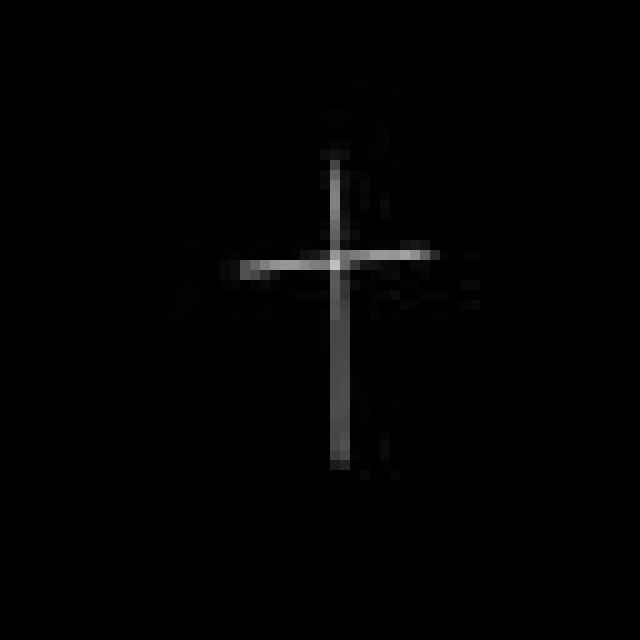10 -ten-: (236, 155, 440, 480)
